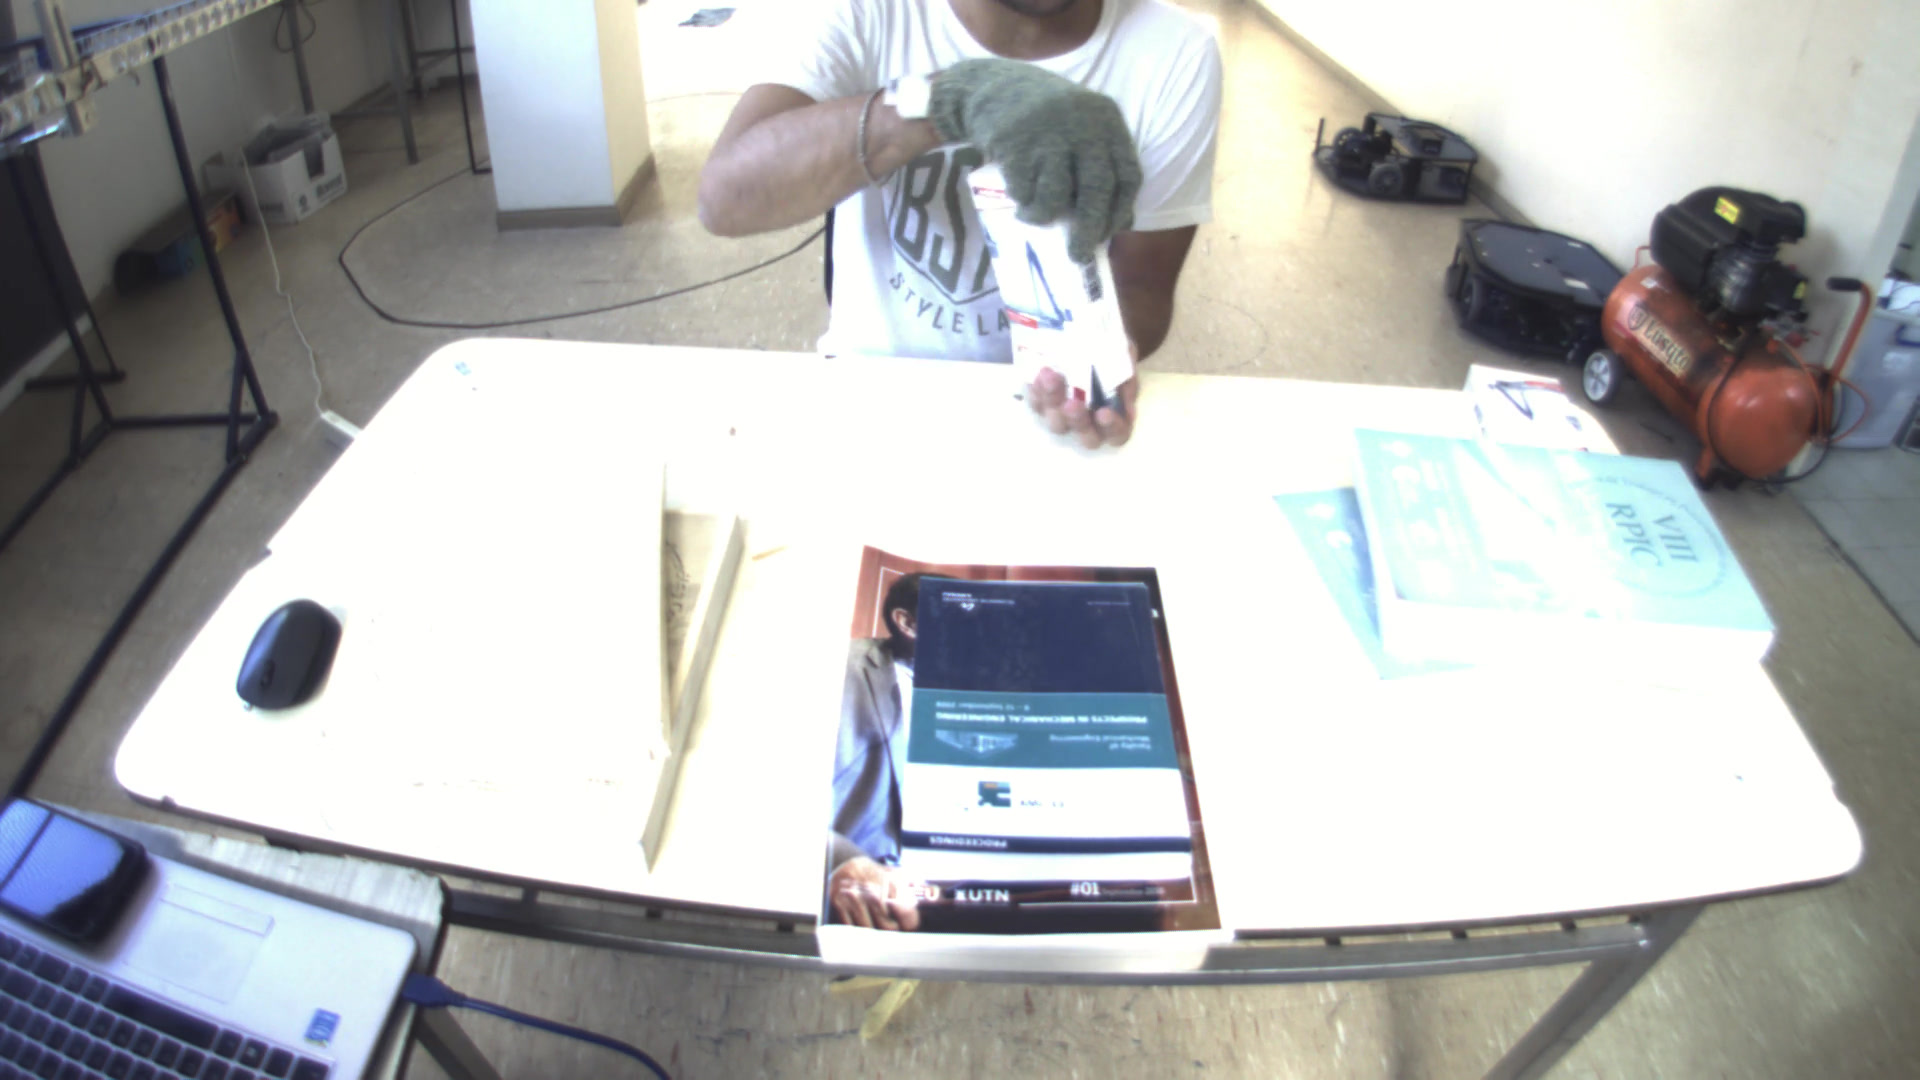hand: (927, 50, 1149, 248), (1014, 353, 1145, 450)
